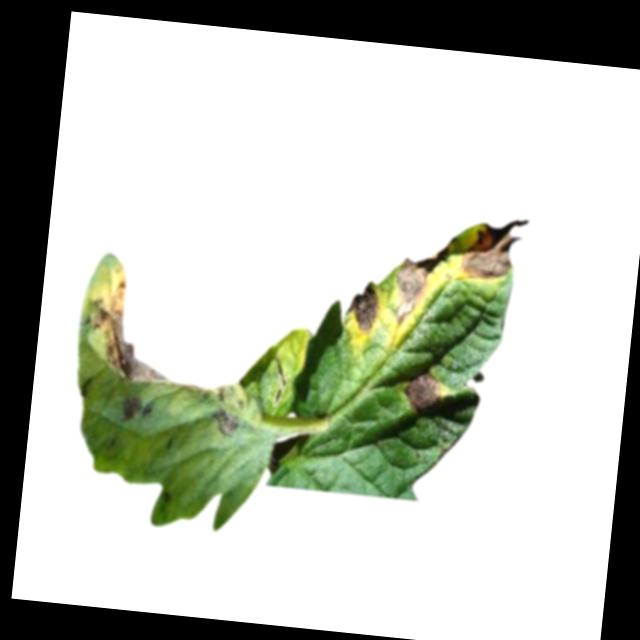Early_blight: (80, 267, 181, 388), (457, 210, 528, 281), (391, 239, 446, 328), (348, 277, 382, 336), (404, 372, 442, 412), (118, 394, 153, 423), (214, 408, 238, 436)
